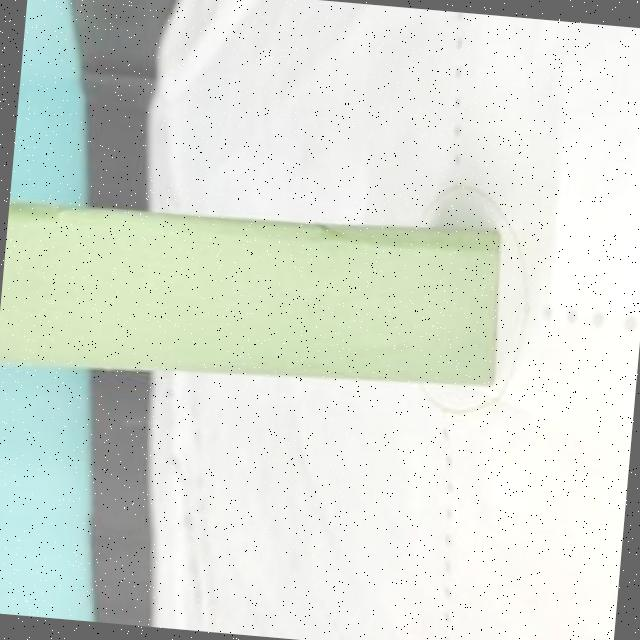greenbox: (0, 187, 506, 402)
